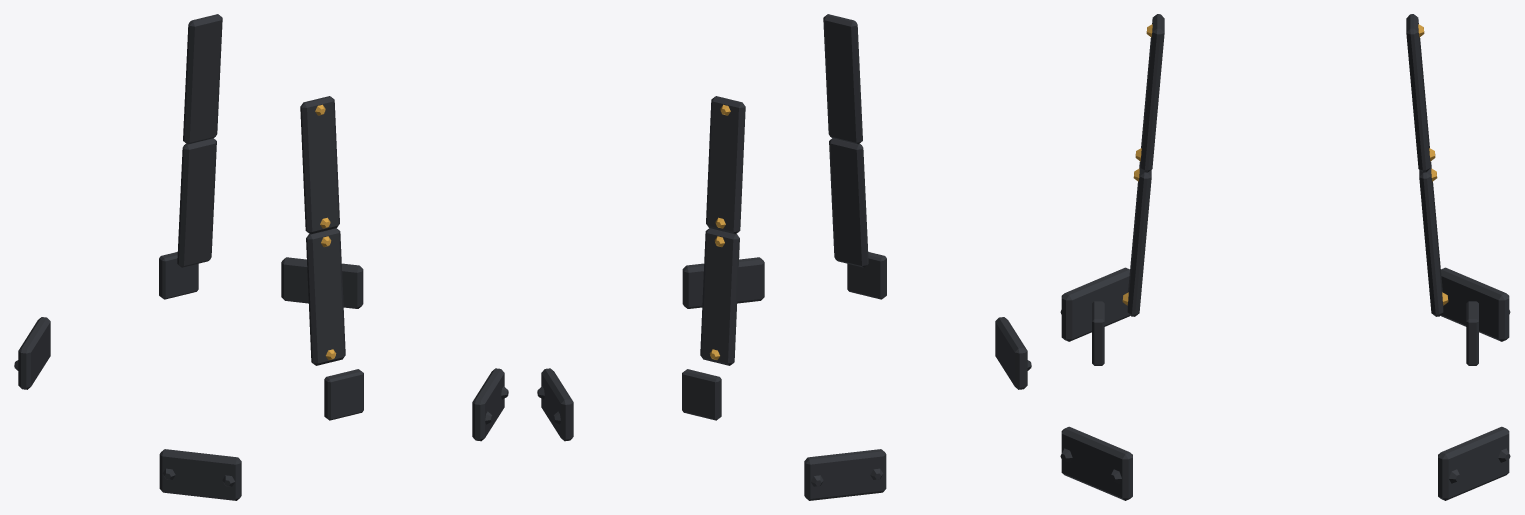
Rendered from SniperKit2.obj.
3 views of the same model, side by side, from view 1: azimuth 30°, elevation 25°; view 2: azimuth 150°, elevation 25°; view 3: azimuth 270°, elevation 25° (orthographic). The views are drawn at different scales.
Parts seen in each view (by area): view 1: SniperKit2; view 2: SniperKit2; view 3: SniperKit2.
Part boxes in pixels (x1=…): SniperKit2: x1=14, y1=14, x2=508, y2=500; SniperKit2: x1=537, y1=14, x2=1031, y2=500; SniperKit2: x1=1060, y1=14, x2=1510, y2=500.
Size of the model in its own units: 1.05 by 0.9908 by 1.05.
